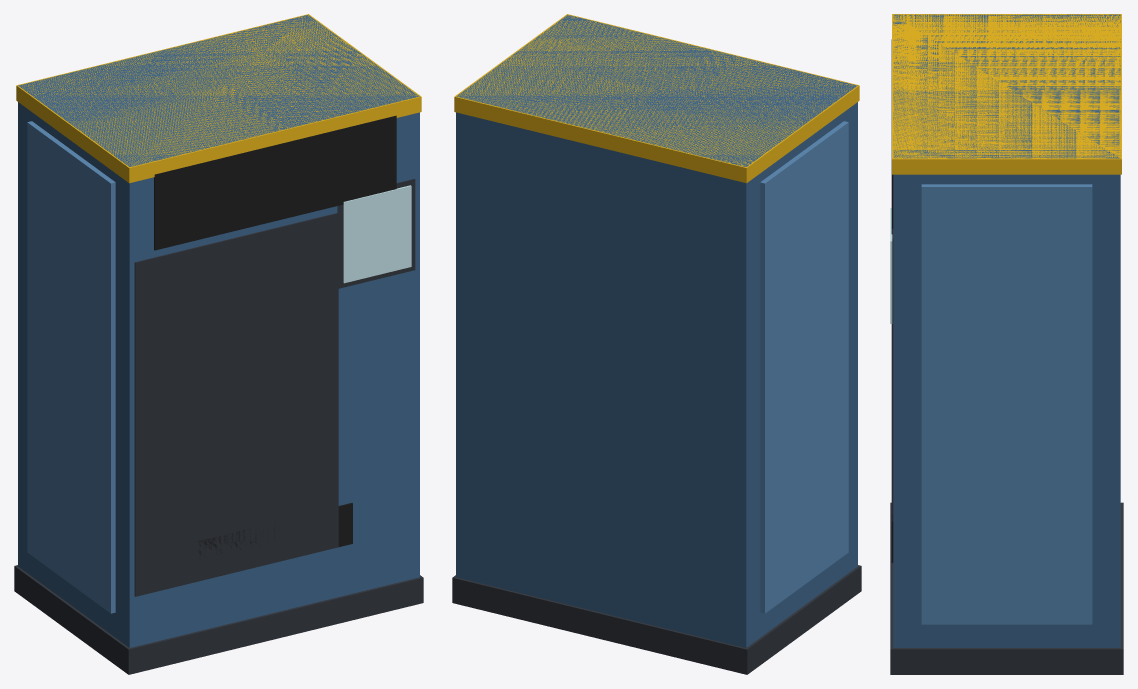
File: machine_vending.glb
3 views of the same model, side by side, from view 1: azimuth 30°, elevation 25°; view 2: azimuth 150°, elevation 25°; view 3: azimuth 270°, elevation 25° (orthographic).
Parts seen in each view (by area): view 1: machine_vending; view 2: machine_vending; view 3: machine_vending.
Part boxes in pixels (x1,y1,x2,y2): machine_vending: (14, 14, 423, 674); machine_vending: (452, 14, 861, 674); machine_vending: (890, 14, 1123, 674).
Bounding box in the file's own units: 1.24 × 2 × 0.82.
Materials: 1 (1 with a texture image).
